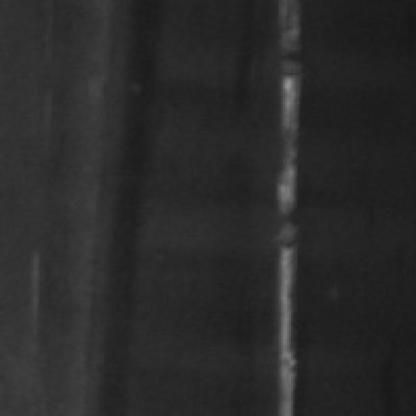scratches: (264, 6, 304, 412)
